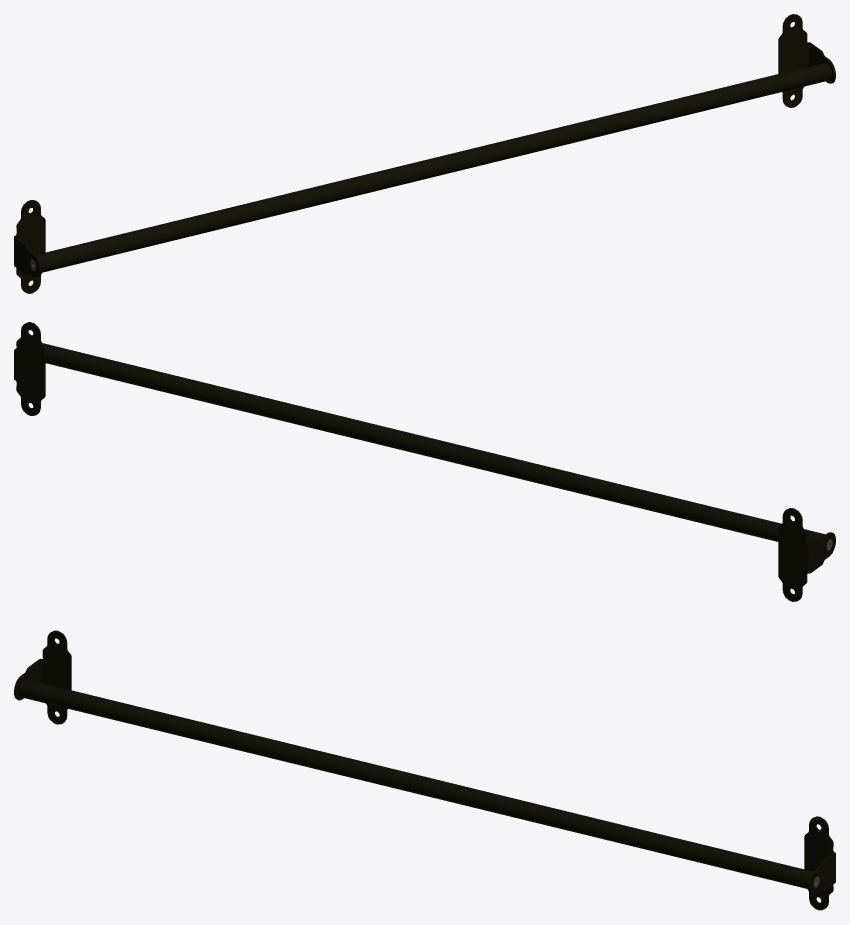
Rendered from hultarp_szyna_20448773.glb.
The picture shows the model from 3 angles, top to bottom: view 1: azimuth 30°, elevation 25°; view 2: azimuth 150°, elevation 25°; view 3: azimuth 330°, elevation 25°; orthographic projection.
Visible parts, largest first — view 1: hultarp_szyna_20448773; view 2: hultarp_szyna_20448773; view 3: hultarp_szyna_20448773.
Boxes of the visible parts, x1=… form: hultarp_szyna_20448773: x1=14, y1=14, x2=835, y2=293; hultarp_szyna_20448773: x1=14, y1=322, x2=835, y2=601; hultarp_szyna_20448773: x1=14, y1=630, x2=835, y2=910.
Size of the model in its own units: 0.8001 by 0.0891 by 0.046.
1 material, 1 textured.
